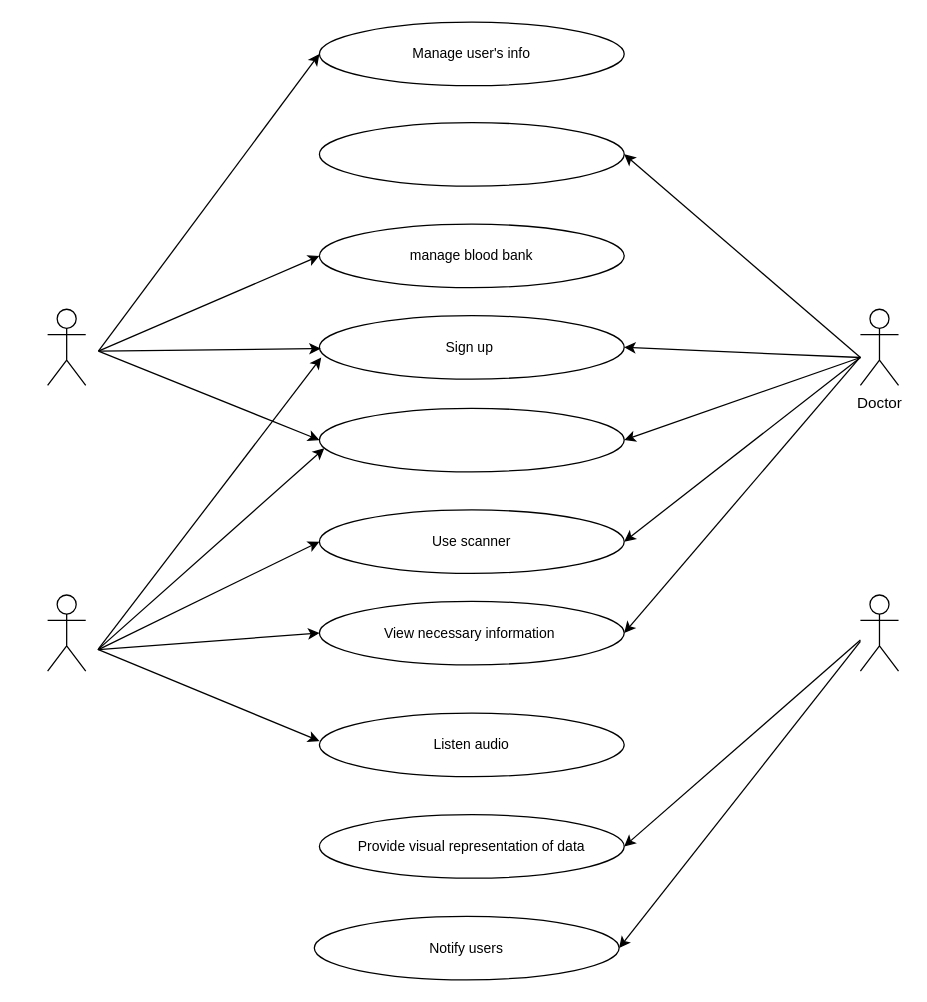
Image size: 927x1002. Some labels were removed from this diagram. The centre of each missing label's shape, as x and y in pixels:
"Administrator" belongs at point 66,346.
"Manage patients charts and appointments" belongs at point 471,153.
"Patient" belongs at point 66,632.
"Sign in" belongs at point 471,439.
"System" belongs at point 879,632.
